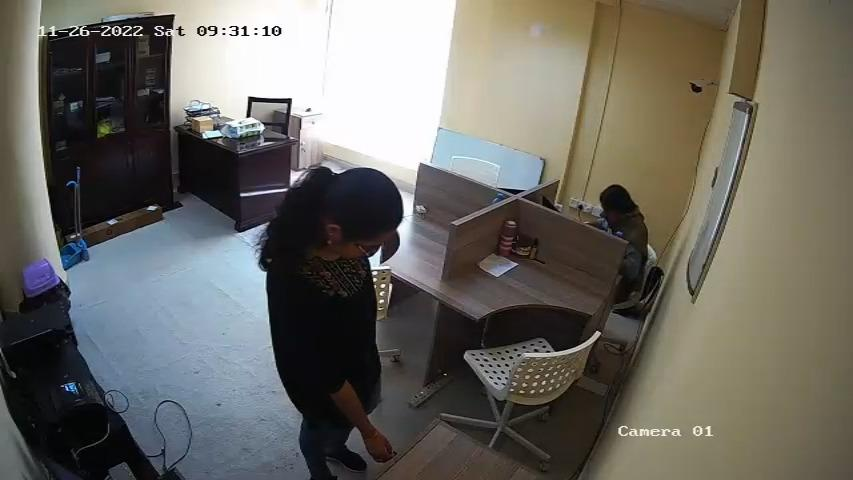no_apron: (322, 266, 380, 381)
